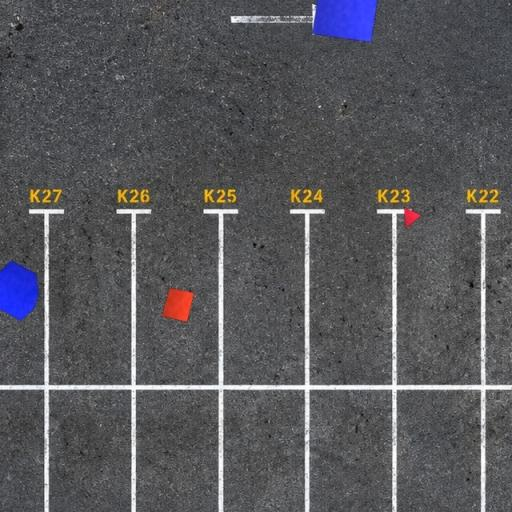BLUE_SQUARE: (311, 0, 381, 43)
RED_SQUARE: (162, 286, 194, 324)
